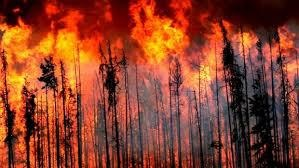fire: (0, 0, 240, 162)
